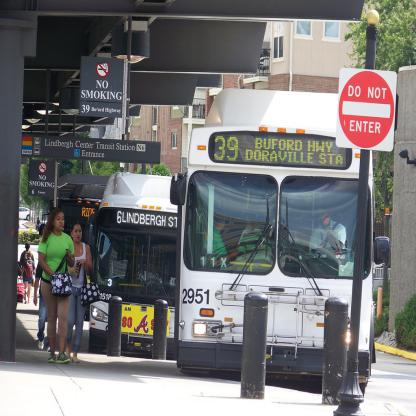Car: (169, 150, 376, 391), (18, 276, 24, 306)
